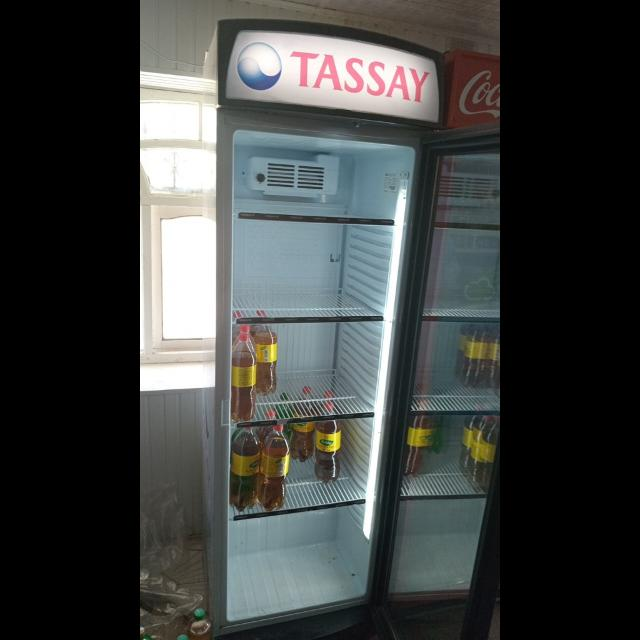Cooling-Display: (214, 19, 444, 639)
